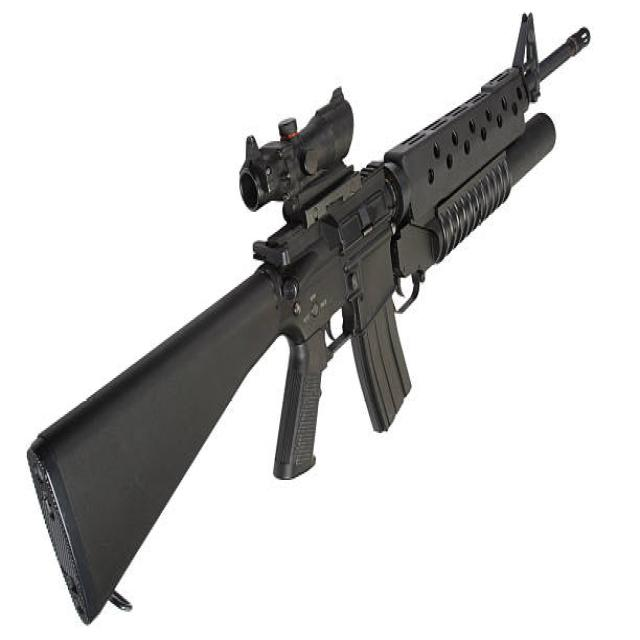rifle: (21, 10, 610, 640)
